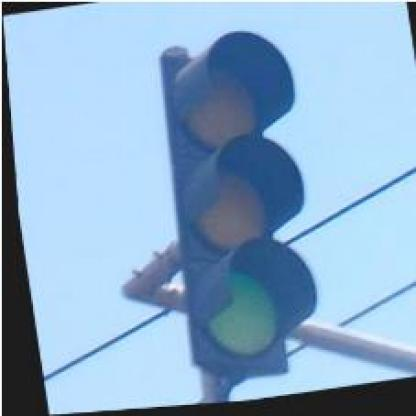green: (141, 25, 332, 389)
